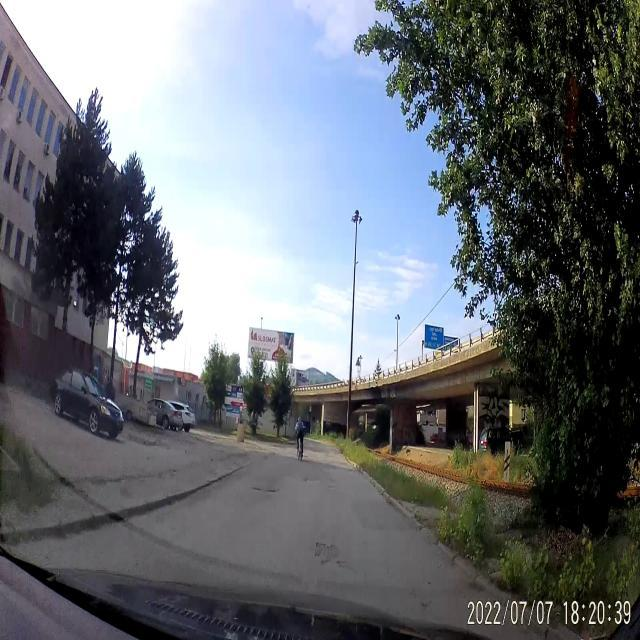Manhole: (252, 480, 281, 498)
Pothole: (309, 532, 349, 580)
